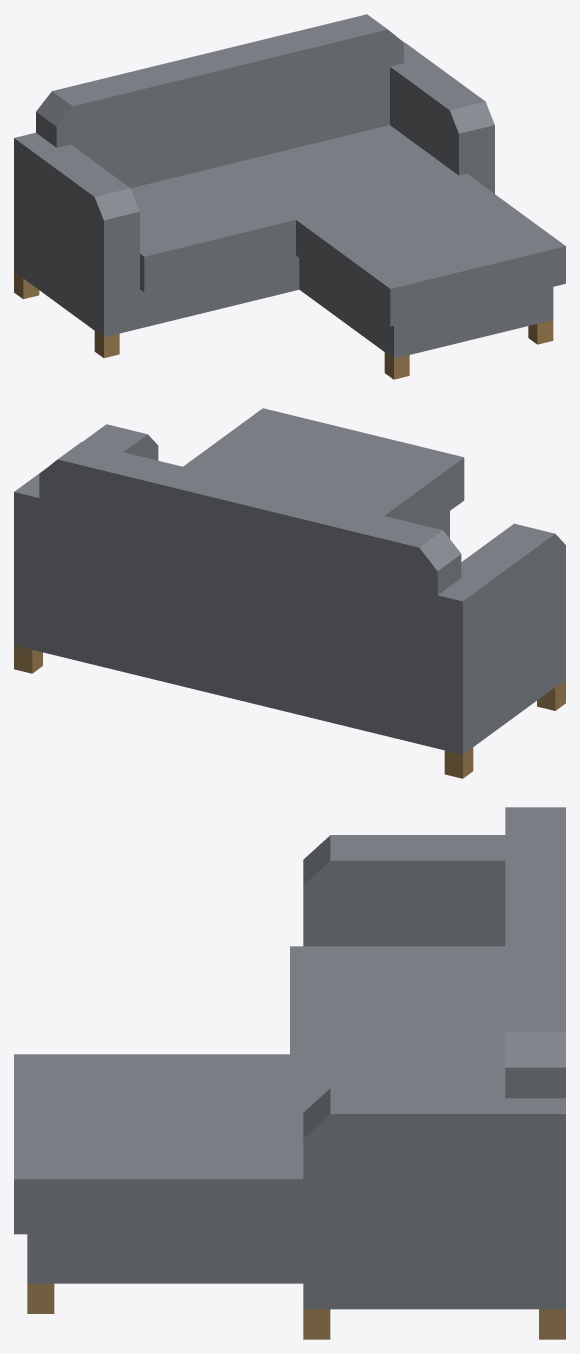
Rendered from sofa_chaise.glb.
3 views of the same model, one above another, from view 1: azimuth 30°, elevation 25°; view 2: azimuth 150°, elevation 25°; view 3: azimuth 270°, elevation 25° (orthographic). The views are drawn at different scales.
Parts seen in each view (by area): view 1: sofa_chaise; view 2: sofa_chaise; view 3: sofa_chaise.
Boxes of the visible parts, bbox=[...] form: sofa_chaise: bbox=[14, 14, 565, 379]; sofa_chaise: bbox=[14, 408, 565, 778]; sofa_chaise: bbox=[14, 807, 565, 1339].
Bounding box in the file's own units: 1.96 × 0.92 × 1.64.
